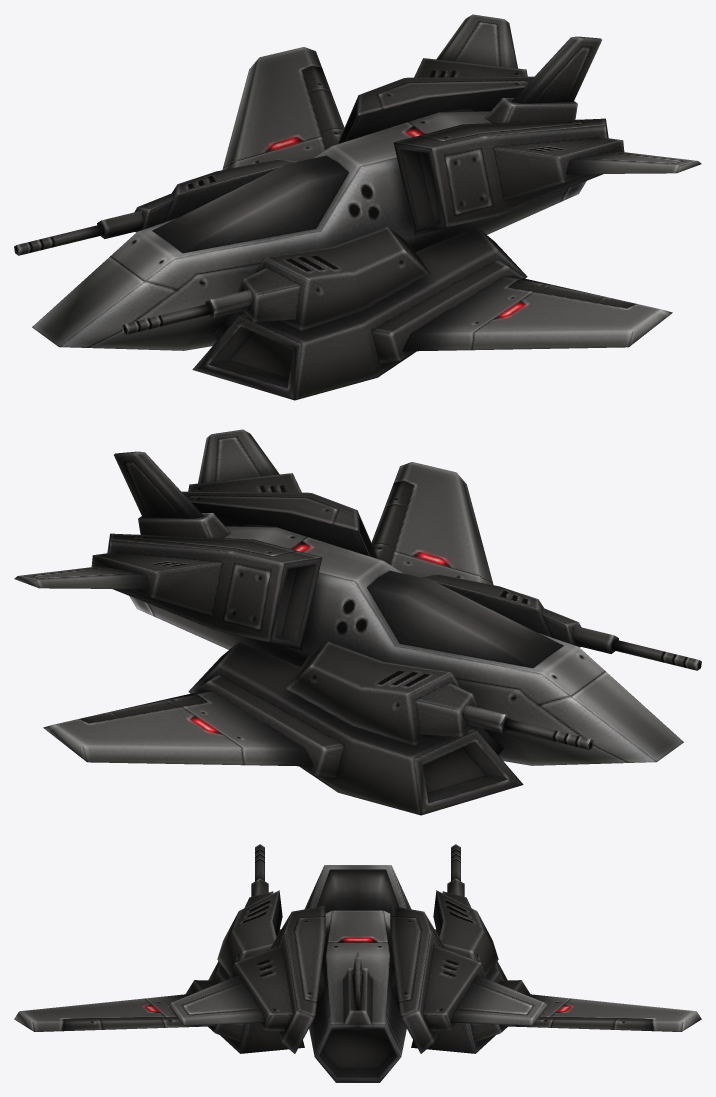
3 views of the same model, one above another, from view 1: azimuth 30°, elevation 25°; view 2: azimuth 150°, elevation 25°; view 3: azimuth 270°, elevation 25° (orthographic). The views are drawn at different scales.
Visible parts, largest first — view 1: small_space_ship_2_003; view 2: small_space_ship_2_003; view 3: small_space_ship_2_003.
Boxes of the visible parts, x1=… form: small_space_ship_2_003: x1=14, y1=14, x2=701, y2=400; small_space_ship_2_003: x1=14, y1=429, x2=701, y2=815; small_space_ship_2_003: x1=14, y1=844, x2=701, y2=1082.
Size of the model in its own units: 49.71 by 18.11 by 58.34.
Materials: 1 (1 with a texture image).
